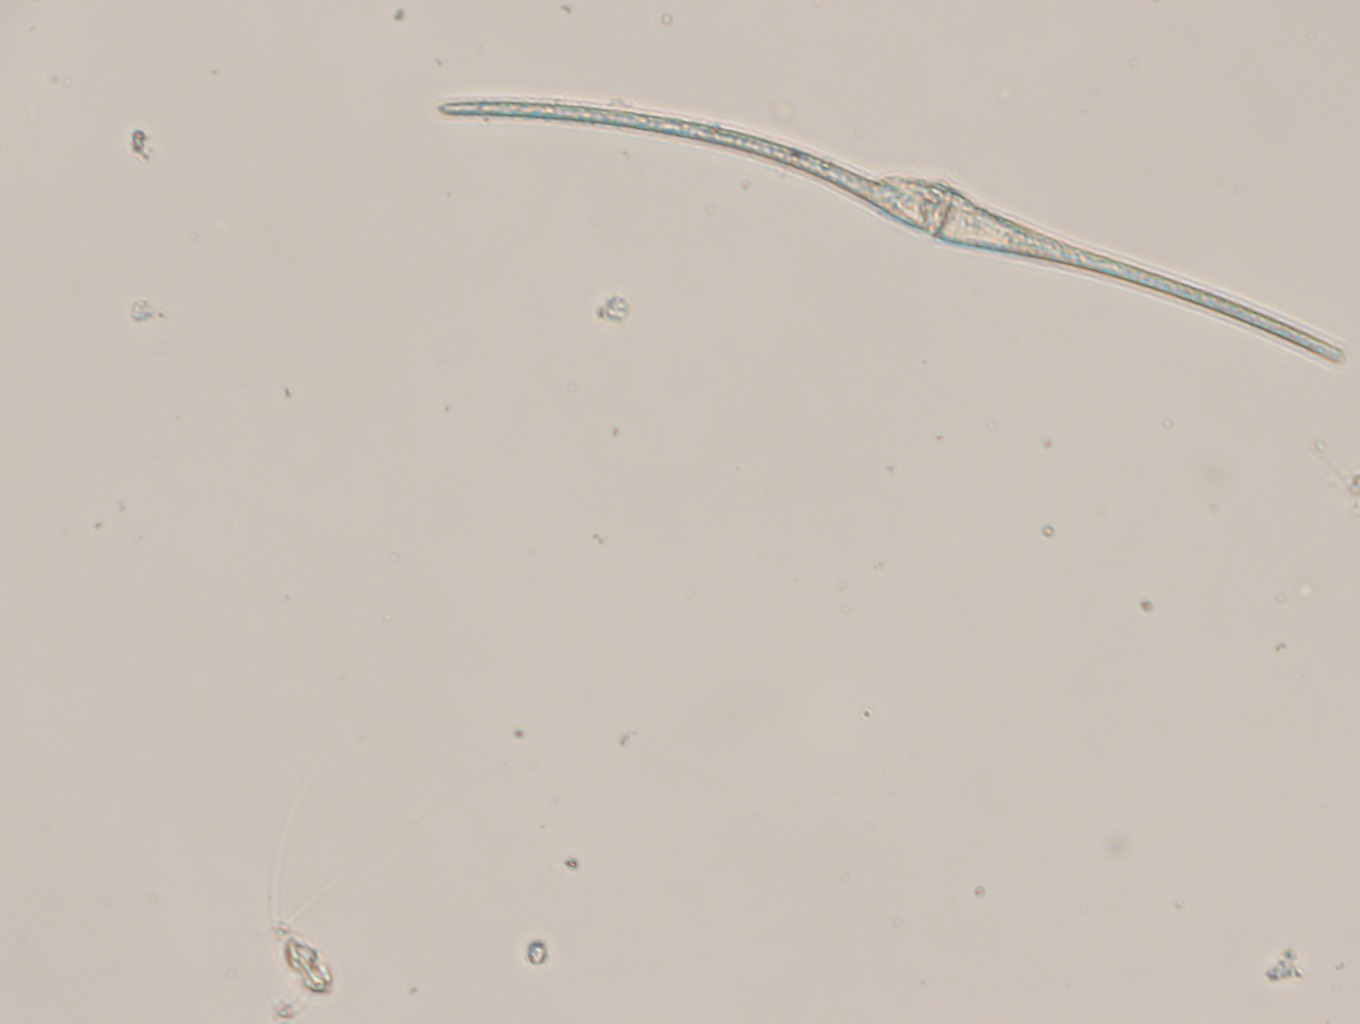ceratium fusus: (430, 79, 1347, 378)
